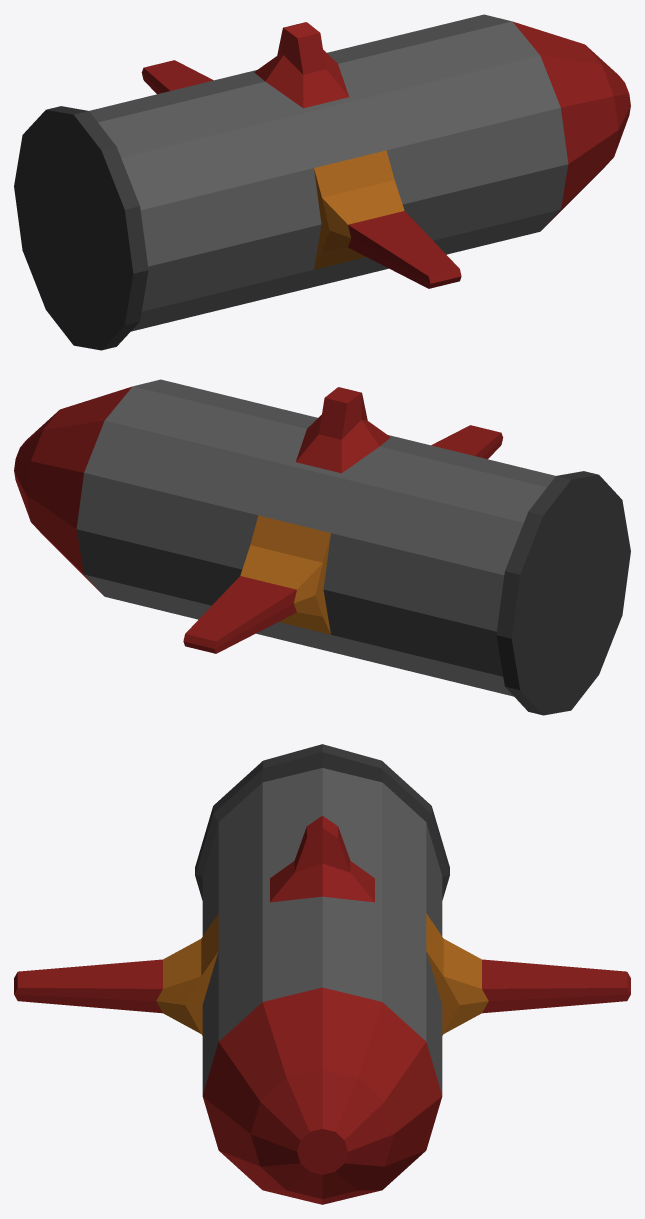
File: Missile.fbx
The picture shows the model from 3 angles, top to bottom: view 1: azimuth 30°, elevation 25°; view 2: azimuth 150°, elevation 25°; view 3: azimuth 270°, elevation 25°; orthographic projection. The views are drawn at different scales.
Visible parts, largest first — view 1: Cylinder; view 2: Cylinder; view 3: Cylinder.
Part boxes in pixels (x1=…): Cylinder: x1=14, y1=14, x2=630, y2=350; Cylinder: x1=14, y1=379, x2=630, y2=715; Cylinder: x1=14, y1=744, x2=630, y2=1204.
Bounding box in the file's own units: 443 × 225 × 483.
